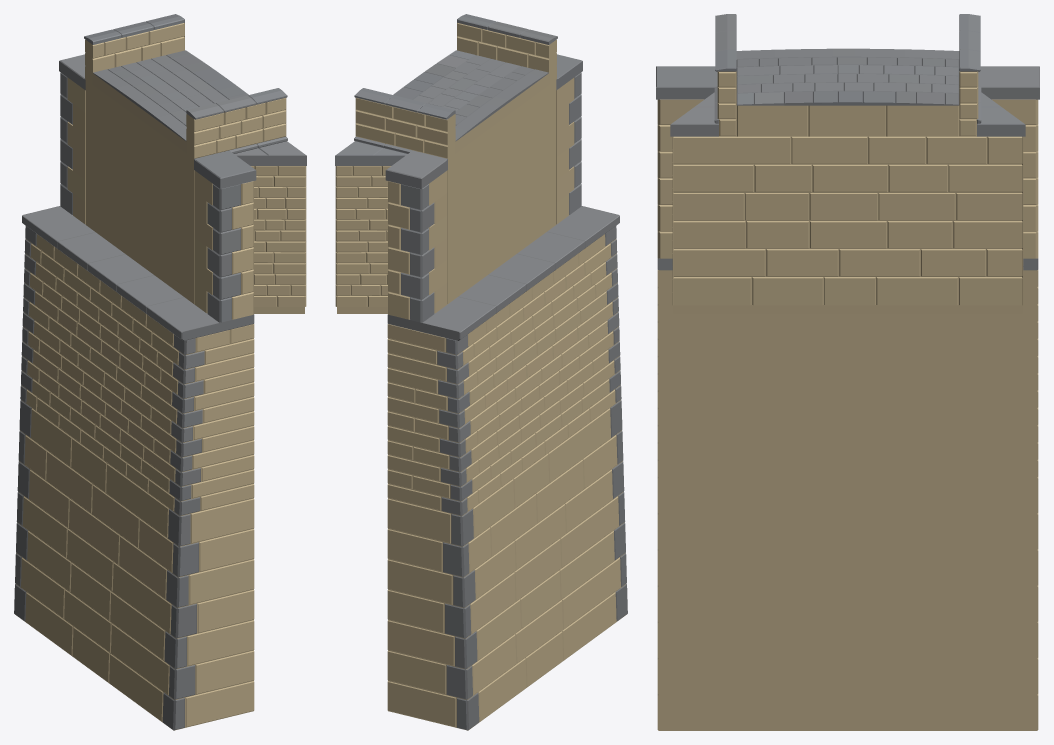
3 views of the same model, side by side, from view 1: azimuth 30°, elevation 25°; view 2: azimuth 150°, elevation 25°; view 3: azimuth 270°, elevation 25° (orthographic). The views are drawn at different scales.
Visible parts, largest first — view 1: Mesh_AbutmentLimestone, Mesh_AbutmentGranite; view 2: Mesh_AbutmentLimestone, Mesh_AbutmentGranite; view 3: Mesh_AbutmentLimestone, Mesh_AbutmentGranite.
Part boxes in pixels (<box>): Mesh_AbutmentLimestone: <box>15,22,306,730</box>; Mesh_AbutmentGranite: <box>14,14,306,730</box>; Mesh_AbutmentLimestone: <box>335,22,626,730</box>; Mesh_AbutmentGranite: <box>335,14,627,730</box>; Mesh_AbutmentLimestone: <box>657,71,1038,730</box>; Mesh_AbutmentGranite: <box>656,14,1039,270</box>.
Size of the model in its own units: 6.02 by 24.2 by 12.08.
